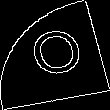O_S: (24, 25, 86, 85)
